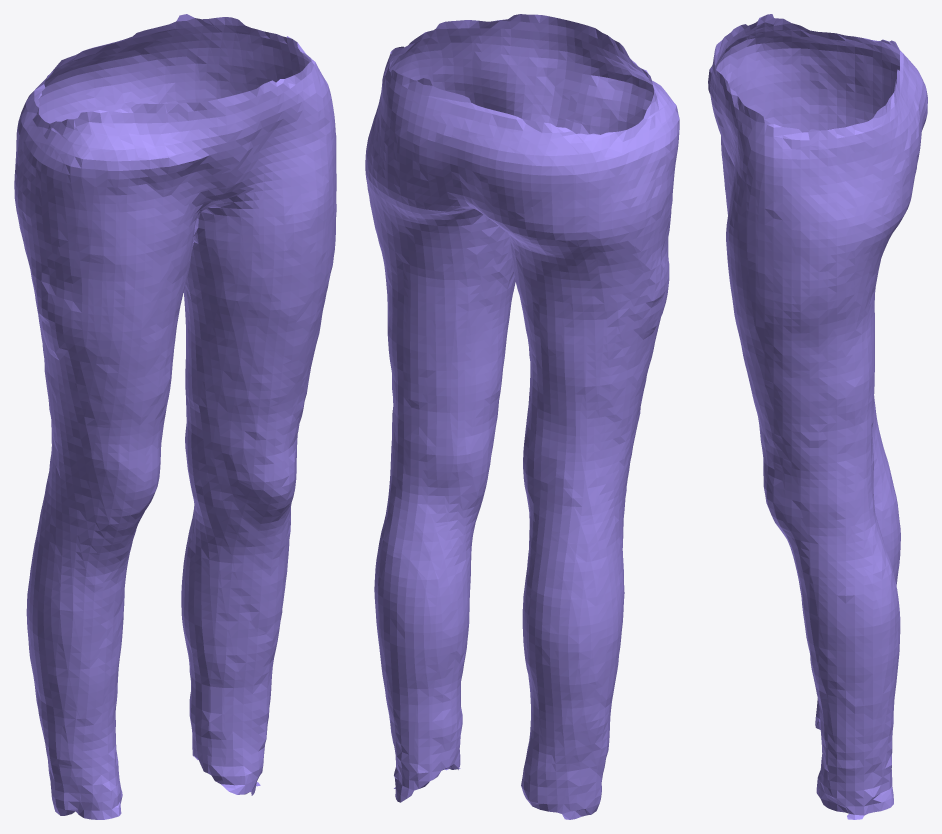
Rendered from pants_ours2.glb.
The picture shows the model from 3 angles, left to right: view 1: azimuth 30°, elevation 25°; view 2: azimuth 150°, elevation 25°; view 3: azimuth 270°, elevation 25°; orthographic projection. The views are drawn at different scales.
Visible parts, largest first — view 1: 0010 ours.ply; view 2: 0010 ours.ply; view 3: 0010 ours.ply.
Boxes of the visible parts, <box> form: 0010 ours.ply: <box>14,14,336,819</box>; 0010 ours.ply: <box>365,14,679,819</box>; 0010 ours.ply: <box>708,14,927,819</box>.
Bounding box in the file's own units: 0.5577 × 1.38 × 0.3835.
